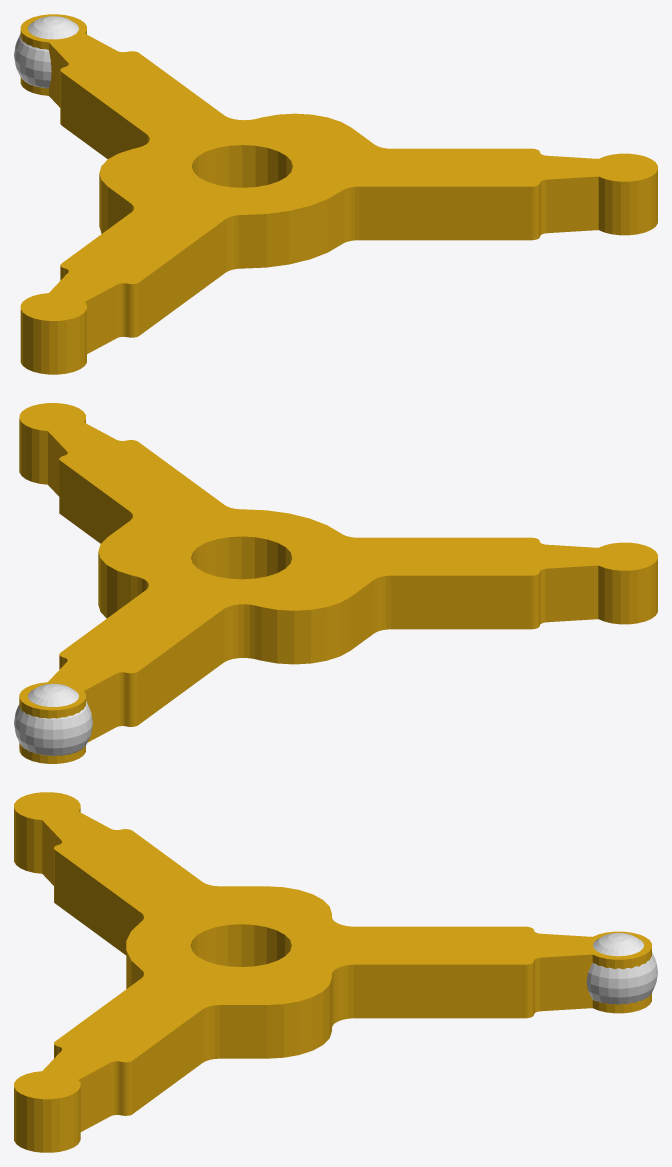
3 renders of one model, top to bottom at view 1: azimuth 30°, elevation 25°; view 2: azimuth 150°, elevation 25°; view 3: azimuth 270°, elevation 25°, orthographic.
Visible parts, largest first — view 1: star_3_u, c1; view 2: star_3_u, c1; view 3: star_3_u, c1.
Part boxes in pixels (x1,y1,x2,y2): star_3_u: (20, 14, 657, 374); c1: (14, 16, 78, 88); star_3_u: (19, 403, 657, 763); c1: (14, 683, 92, 755); star_3_u: (14, 792, 651, 1152); c1: (586, 933, 657, 1004).
Bounding box in the file's own units: 36.83 × 4 × 32.65.
